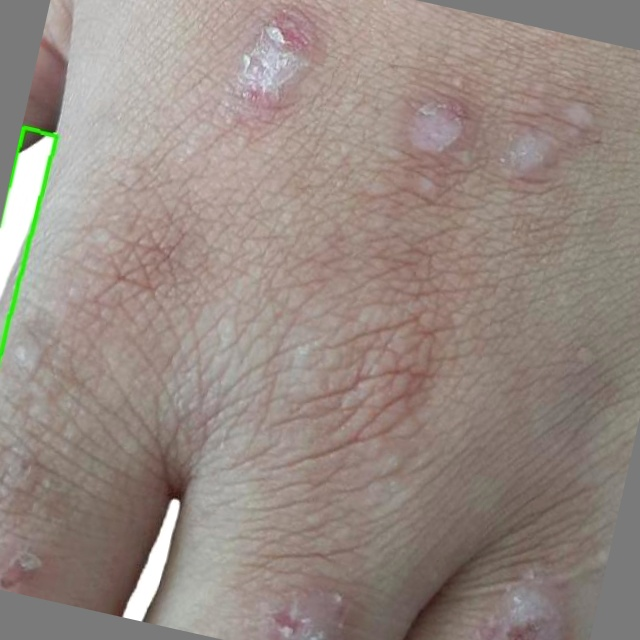Contact Dermatitis: (0, 127, 56, 349)
